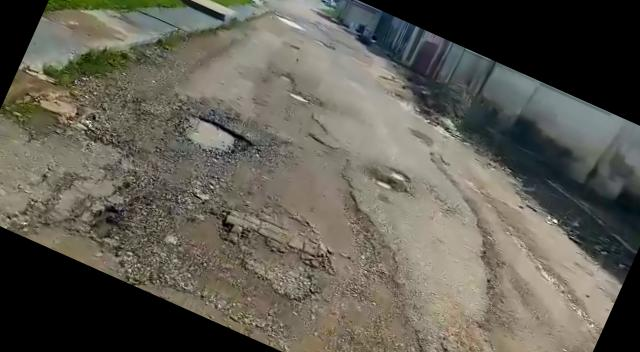pothole: (172, 108, 258, 168), (384, 165, 413, 185), (286, 88, 314, 106), (370, 174, 393, 191), (278, 73, 292, 84)
